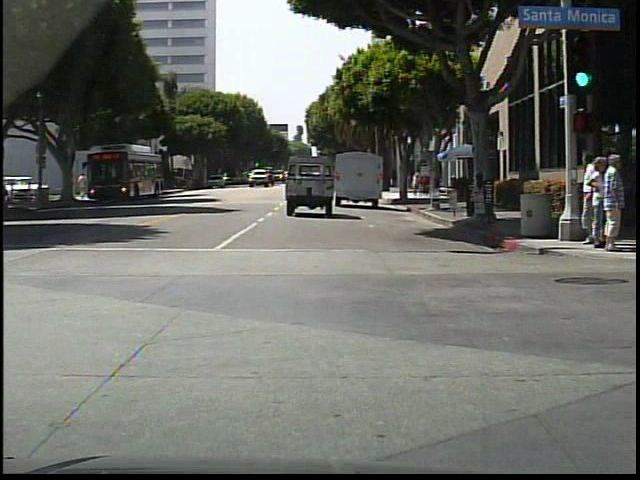person: (595, 153, 629, 257), (576, 150, 599, 249), (588, 157, 610, 250), (79, 170, 89, 201), (412, 171, 421, 197), (68, 176, 77, 201), (407, 169, 414, 198)
